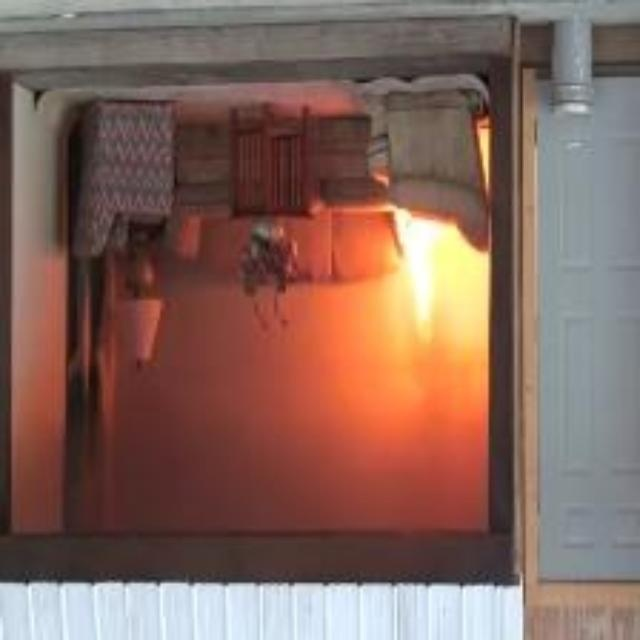fire: (370, 209, 479, 396)
